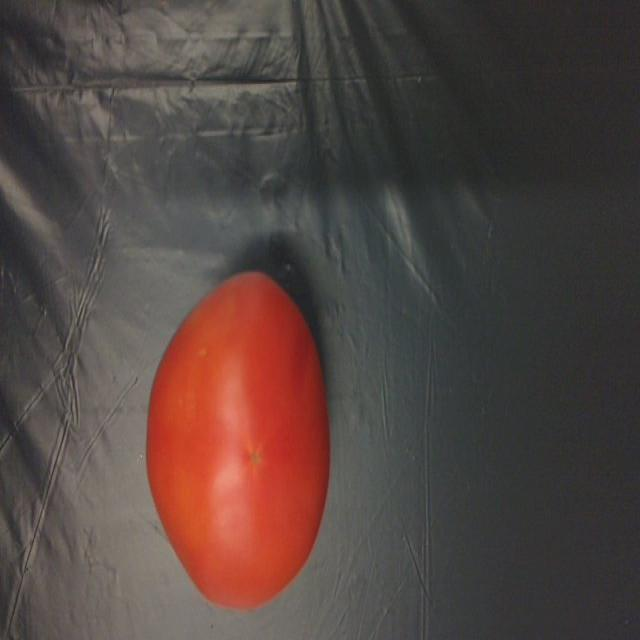kirmizi: (150, 267, 327, 598)
